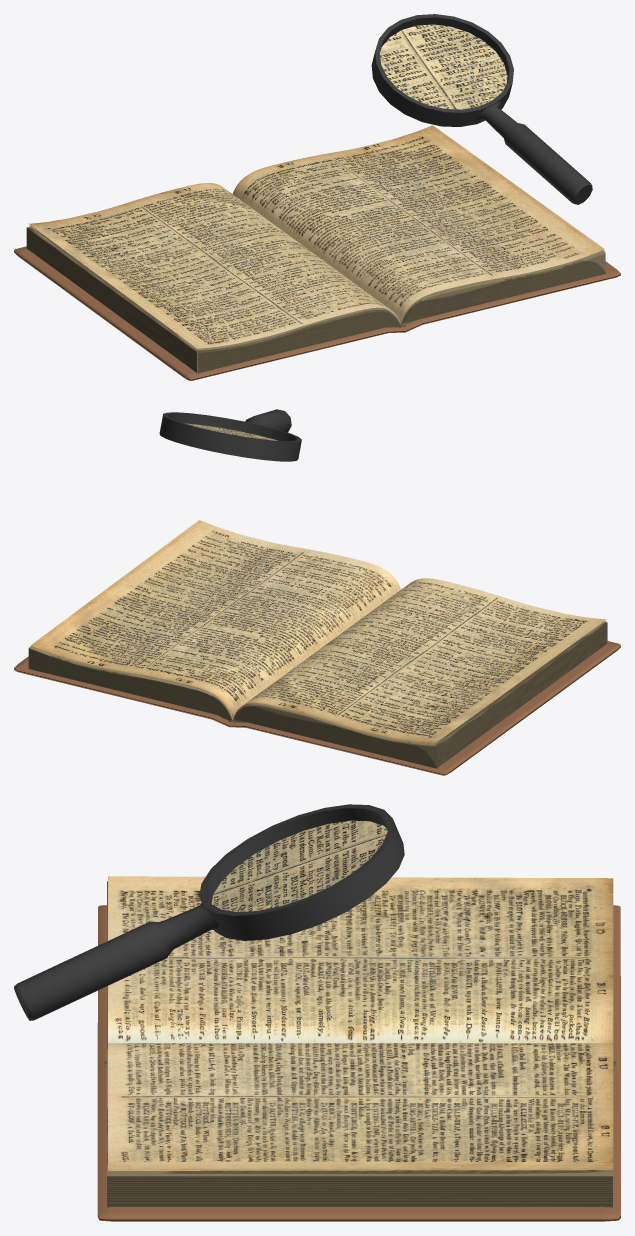
The model's file is Magni glass.fbx.
The picture shows the model from 3 angles, top to bottom: view 1: azimuth 30°, elevation 25°; view 2: azimuth 150°, elevation 25°; view 3: azimuth 270°, elevation 25°; orthographic projection. The views are drawn at different scales.
Visible parts, largest first — view 1: book_with_magnif; view 2: book_with_magnif; view 3: book_with_magnif.
Boxes of the visible parts, box(x1,y1,x2,y2) form: book_with_magnif: box(14, 14, 620, 380); book_with_magnif: box(14, 409, 620, 775); book_with_magnif: box(14, 804, 620, 1221).
Size of the model in its own units: 25.63 by 12.3 by 21.02.
Materials: 8 (5 with a texture image).
